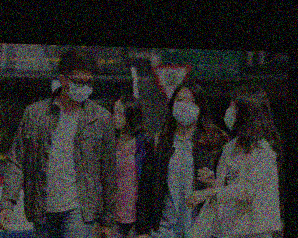with_mask: (62, 73, 94, 103), (171, 94, 201, 126), (222, 98, 238, 131)
without_mask: (109, 106, 126, 129)
